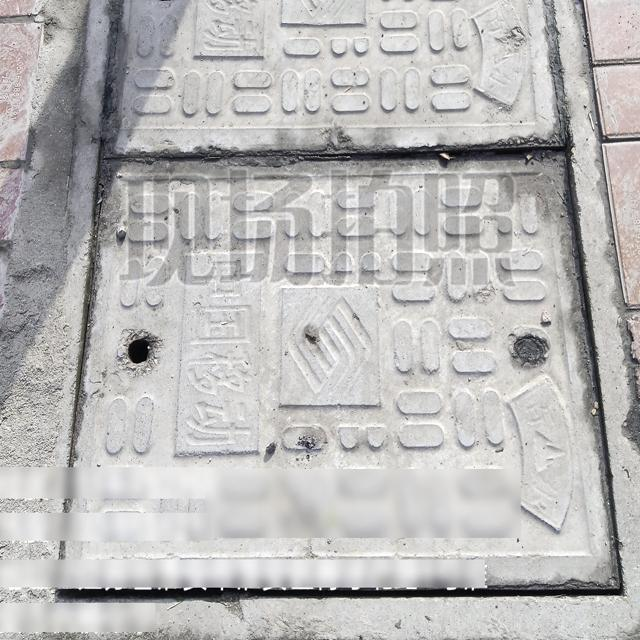good: (30, 0, 640, 640)
